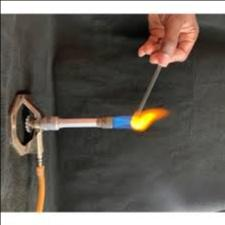controlled_fire: (87, 83, 174, 149)
